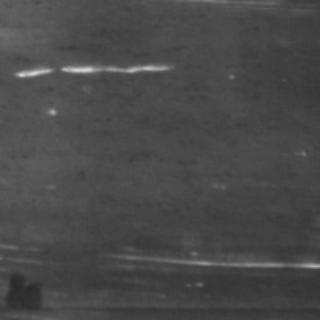inclusion: (2, 270, 42, 310)
scratches: (9, 54, 170, 82), (130, 248, 316, 272)
